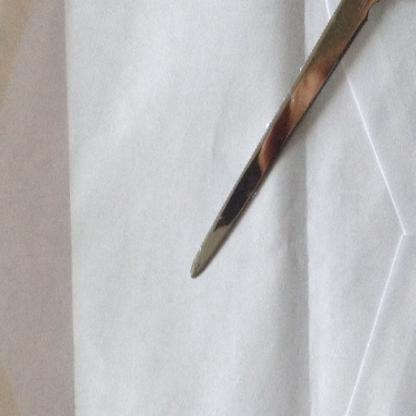knife: (184, 0, 416, 282)
